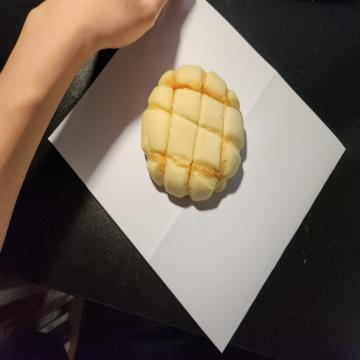melon_bread: (142, 66, 243, 205)
